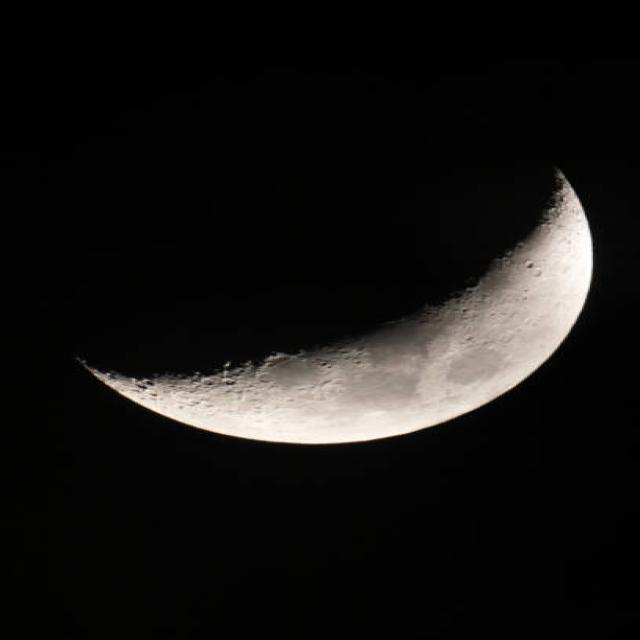moon: (55, 106, 593, 446)
